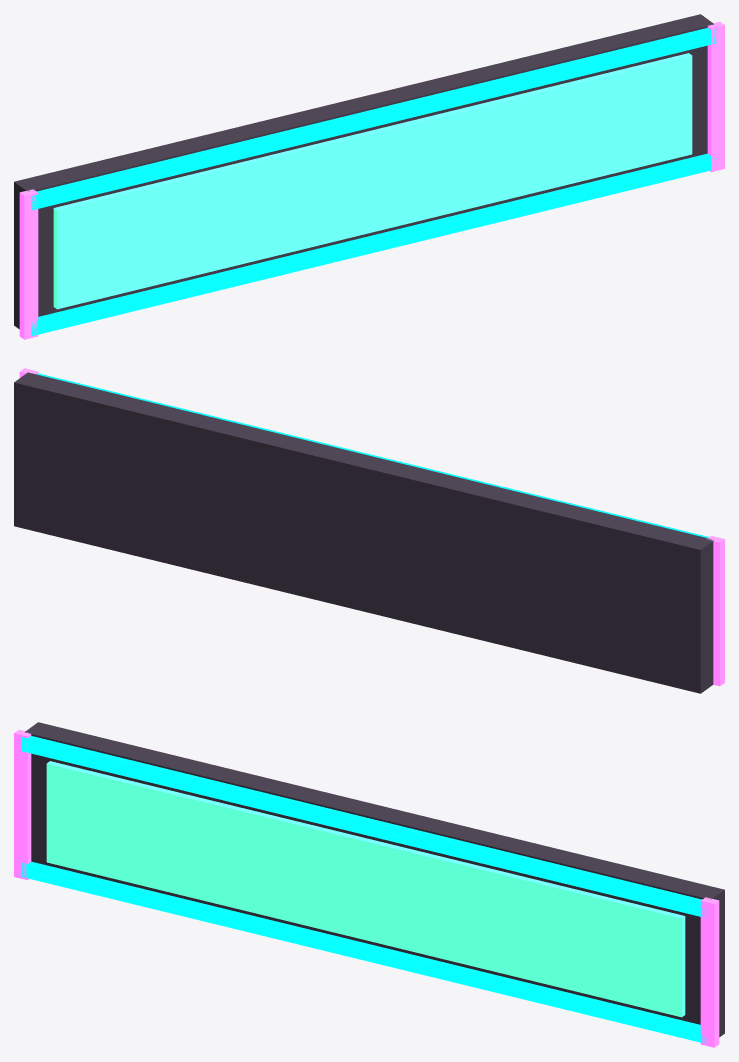
Rendered from SIGN_Neon_Horizontal_MD.glb.
3 views of the same model, one above another, from view 1: azimuth 30°, elevation 25°; view 2: azimuth 150°, elevation 25°; view 3: azimuth 330°, elevation 25° (orthographic).
Visible parts, largest first — view 1: SIGN_Neon_Horizontal_MD; view 2: SIGN_Neon_Horizontal_MD; view 3: SIGN_Neon_Horizontal_MD.
Part boxes in pixels (x1,y1,x2,y2): SIGN_Neon_Horizontal_MD: [14, 14, 724, 339]; SIGN_Neon_Horizontal_MD: [14, 368, 724, 693]; SIGN_Neon_Horizontal_MD: [14, 722, 724, 1047].
Bounding box in the file's own units: 4.08 × 0.8 × 0.175.
